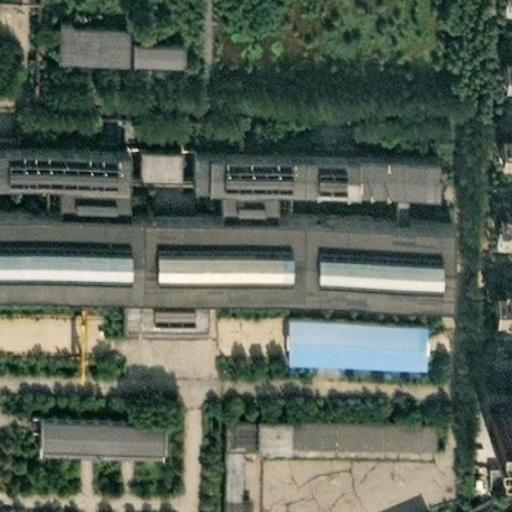building: (0, 193, 441, 320), (215, 406, 437, 512), (188, 137, 437, 198), (278, 308, 420, 354), (30, 402, 156, 431), (50, 9, 121, 50), (134, 136, 189, 173), (30, 430, 156, 444), (126, 23, 182, 51), (483, 385, 512, 424), (487, 193, 512, 225), (487, 265, 512, 296), (491, 114, 512, 147), (493, 33, 512, 68), (482, 450, 504, 478)
